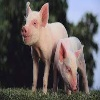heo: (54, 36, 90, 95), (18, 1, 50, 52)
